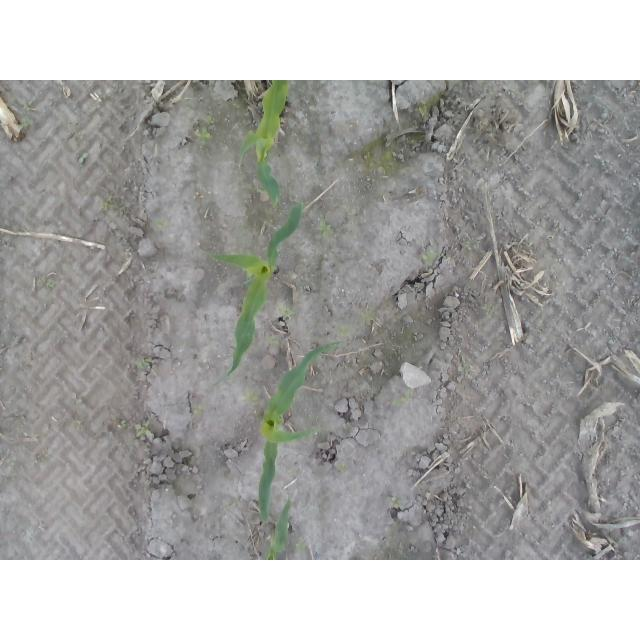Maize: (197, 201, 304, 388), (259, 341, 345, 525), (238, 80, 293, 210), (266, 495, 295, 559)
Weeds: (194, 117, 215, 146), (135, 419, 157, 437), (72, 400, 84, 429), (392, 389, 412, 406), (336, 325, 360, 338), (109, 414, 130, 427), (456, 356, 472, 373), (412, 105, 428, 120), (1, 453, 15, 470), (103, 195, 117, 212), (359, 311, 373, 328), (424, 251, 440, 265), (23, 103, 34, 123), (316, 221, 330, 236), (139, 356, 153, 370), (296, 540, 308, 556), (247, 183, 265, 193), (391, 496, 405, 508), (37, 449, 48, 464), (281, 307, 294, 319), (45, 277, 56, 289), (245, 393, 256, 404), (80, 150, 89, 163), (268, 335, 281, 344), (156, 218, 168, 227), (291, 468, 302, 477), (484, 304, 493, 315), (238, 218, 247, 227), (340, 464, 348, 473), (194, 406, 202, 415), (32, 433, 41, 440), (463, 242, 471, 248)
